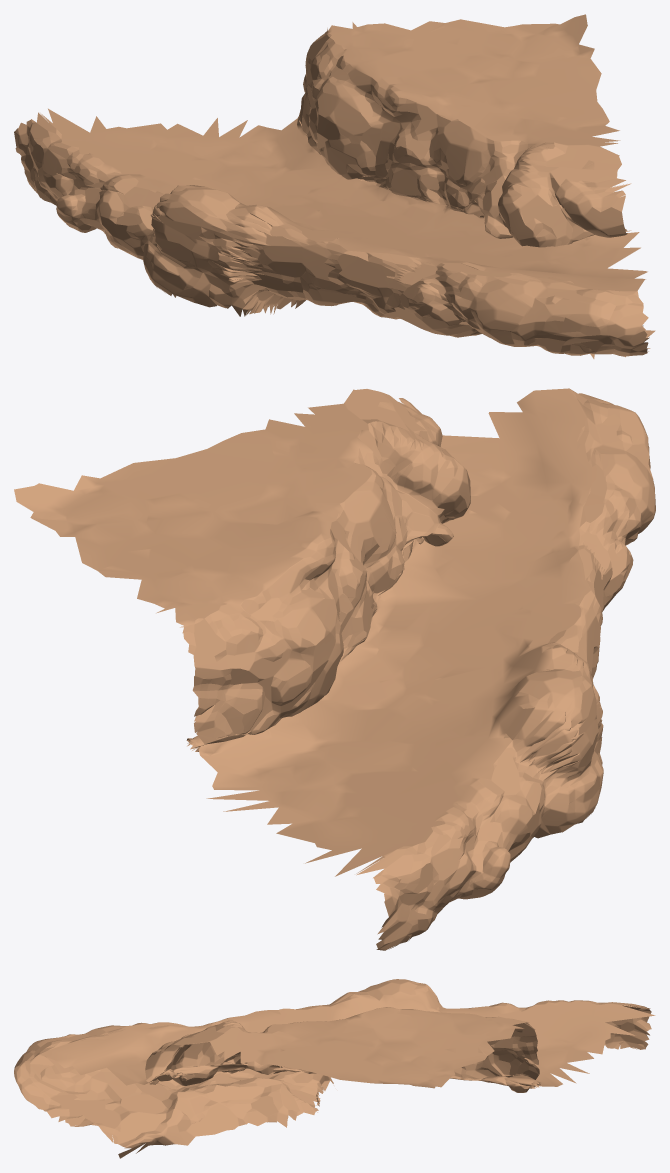
The model's file is SandstoneBig_Mesh_40_006LODs.fbx.
3 views of the same model, one above another, from view 1: azimuth 30°, elevation 25°; view 2: azimuth 150°, elevation 25°; view 3: azimuth 270°, elevation 25° (orthographic). The views are drawn at different scales.
Visible parts, largest first — view 1: Mesh_40.006_LOD0; view 2: Mesh_40.006_LOD0; view 3: Mesh_40.006_LOD0.
Part boxes in pixels (x1,y1,x2,y2): Mesh_40.006_LOD0: (14,14,655,358); Mesh_40.006_LOD0: (14,388,655,950); Mesh_40.006_LOD0: (14,979,655,1158).
Size of what is drawn, in the model's own units: 9839 by 3470 by 15009.
